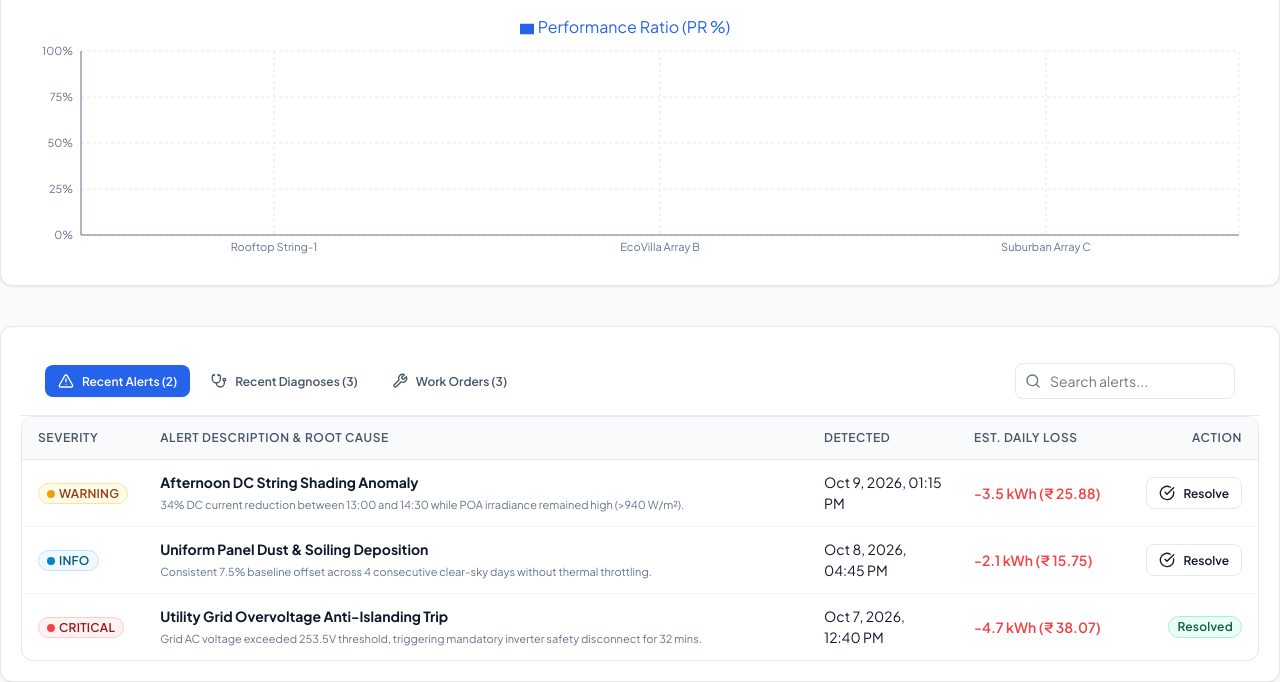
Test case: SolarMind Dashboard Component Suite › filters table rows when search input is typed
(page scrolled)
Type "Soiling" into the search field with placeholder "Search alerts...". click: (1125, 381)
box: x1=1015 y1=363 x2=1235 y2=399
(page scrolled)
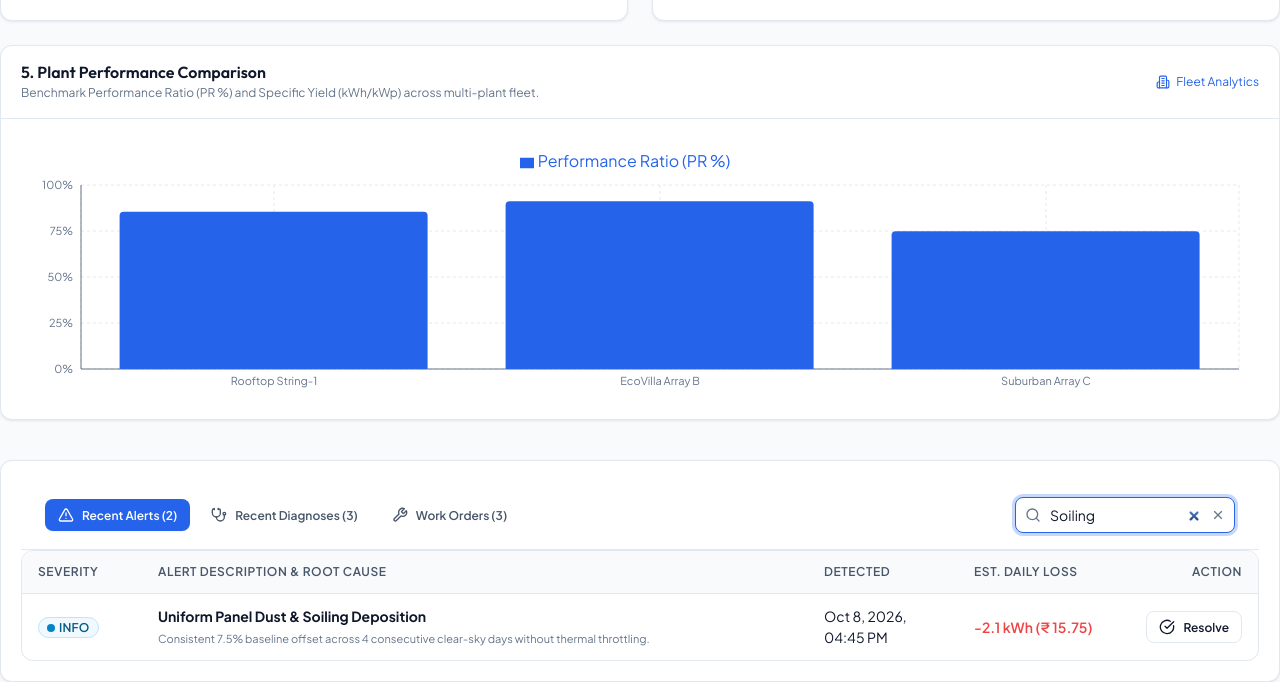
Expected: the text "Uniform Panel Dust & Soiling Deposition" is shown, x1=158 y1=607 x2=426 y2=625
Expected: the text "Afternoon DC String Shading Anomaly" is gone
